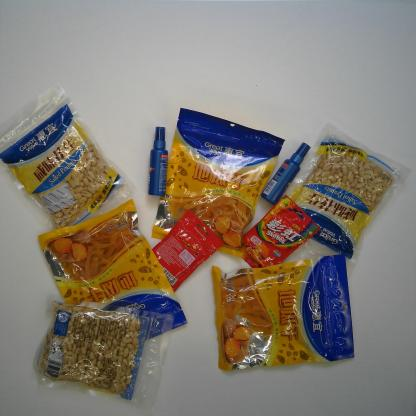Candy: (152, 209, 224, 293), (242, 194, 321, 268)
Dried Fruit: (37, 198, 189, 346), (150, 106, 286, 258), (0, 82, 137, 232), (284, 119, 413, 272), (211, 252, 356, 371), (32, 292, 176, 411)
Personal Hygiene: (260, 141, 312, 206), (147, 126, 169, 197)
